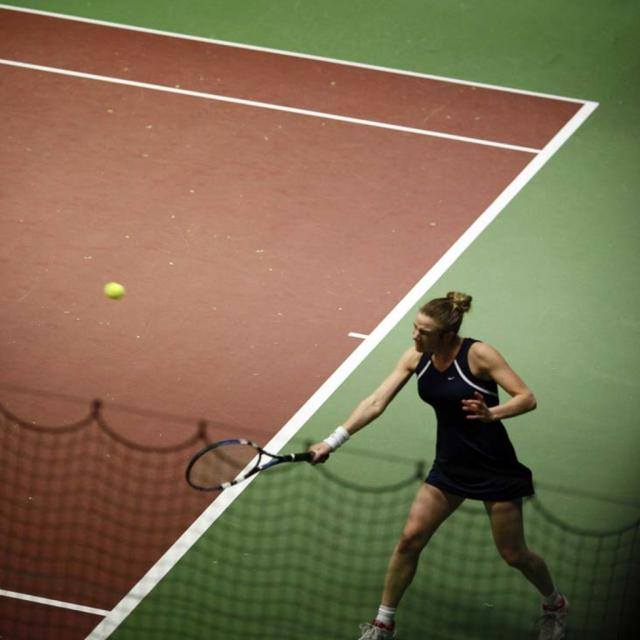Tennis ball: (105, 280, 124, 297)
